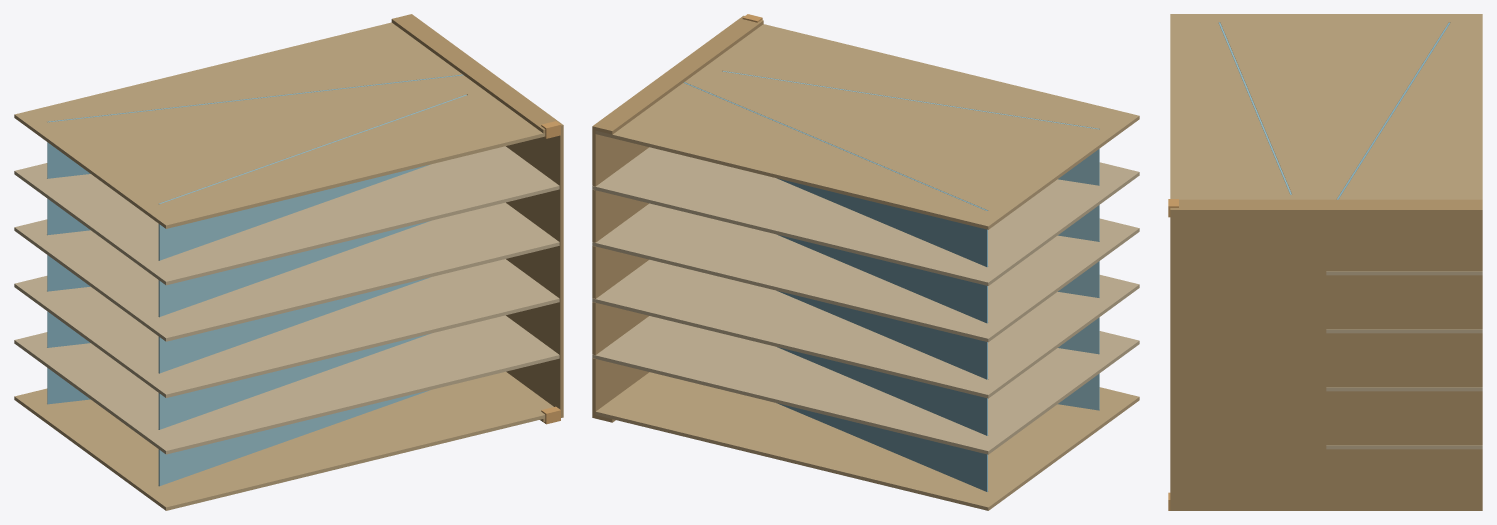
Rendered from V13_КАССЕТА_СБОРКА.glb.
3 views of the same model, side by side, from view 1: azimuth 30°, elevation 25°; view 2: azimuth 150°, elevation 25°; view 3: azimuth 270°, elevation 25° (orthographic). The views are drawn at different scales.
Visible parts, largest first — view 1: wall_6, wall_5, wall_3, wall_4, wall_2, wall_1, upper, rear, lower, rear_wing_right; view 2: wall_6, wall_4, wall_5, wall_2, wall_3, wall_1, lower, rear, upper, rear_wing_right; view 3: rear, wall_6, rear_wing_right, rear_wing_left, wall_2, wall_3, wall_4, wall_5, lower, upper.
Part boxes in pixels (x1,y1,x2,y2): wall_6: (14, 22, 545, 228); wall_5: (14, 146, 559, 285); wall_3: (14, 259, 559, 397); wall_4: (14, 202, 559, 341); wall_2: (14, 315, 559, 454); wall_1: (14, 371, 553, 510); upper: (158, 94, 466, 486); rear: (506, 128, 563, 414); lower: (47, 74, 463, 404); rear_wing_right: (391, 14, 563, 133); wall_6: (595, 24, 1139, 229); wall_4: (592, 203, 1139, 342); wall_5: (592, 147, 1139, 285); wall_2: (592, 316, 1139, 454); wall_3: (592, 259, 1139, 398); wall_1: (595, 372, 1139, 510); lower: (683, 82, 987, 491); rear: (592, 130, 649, 414); upper: (722, 71, 1099, 410); rear_wing_right: (592, 15, 763, 134); rear: (1170, 213, 1482, 507); wall_6: (1170, 14, 1482, 199); rear_wing_right: (1170, 199, 1482, 213); rear_wing_left: (1170, 507, 1482, 510); wall_2: (1326, 445, 1482, 449); wall_3: (1326, 387, 1482, 391); wall_4: (1326, 329, 1482, 333); wall_5: (1326, 271, 1482, 275); lower: (1337, 22, 1449, 199); upper: (1218, 22, 1291, 194).
Size of the model in its own units: 590 by 420 by 392.
